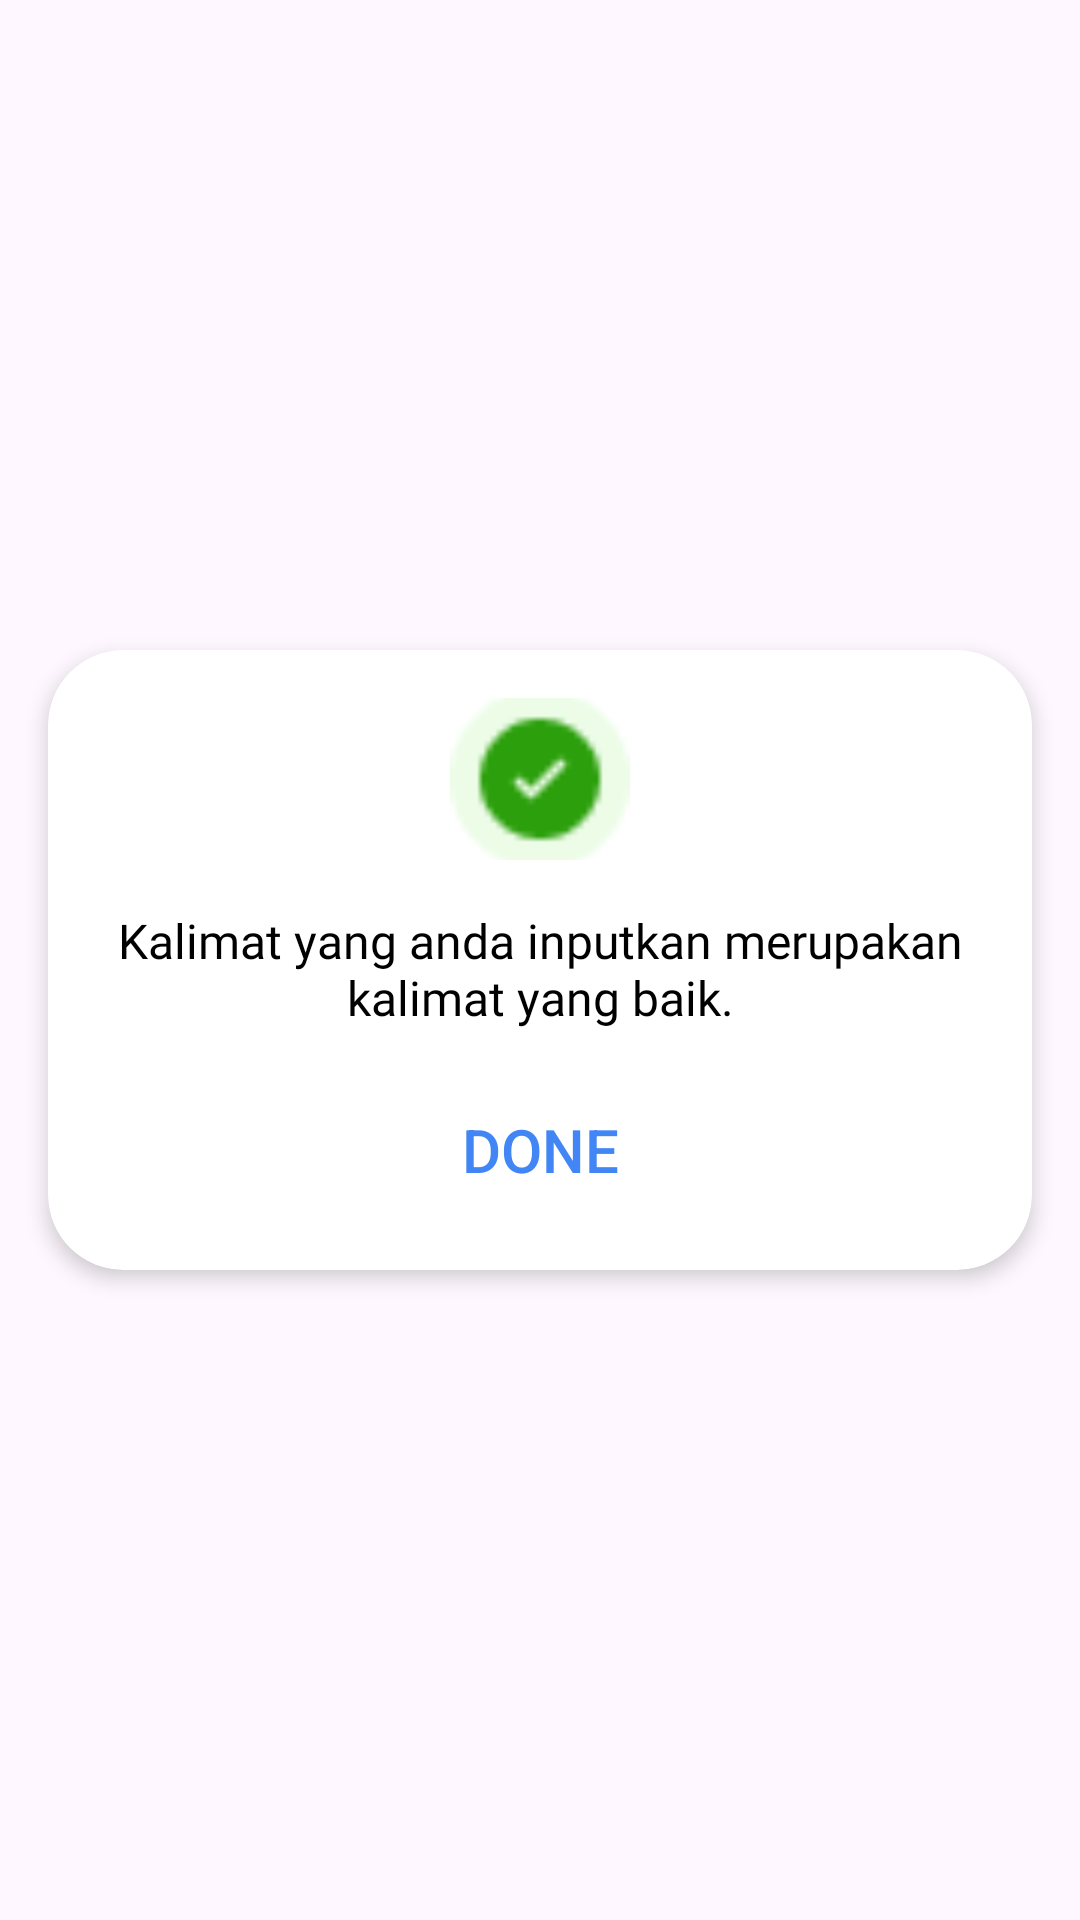

Where to tap for icons on this 1080*1920 app screen, as (x=x, y=y):
positif: (x=540, y=779)
